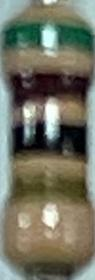Black: (10, 123, 88, 162)
Brown: (8, 72, 91, 108)
Green: (3, 25, 92, 55)
Side-Gold: (7, 172, 90, 212)
